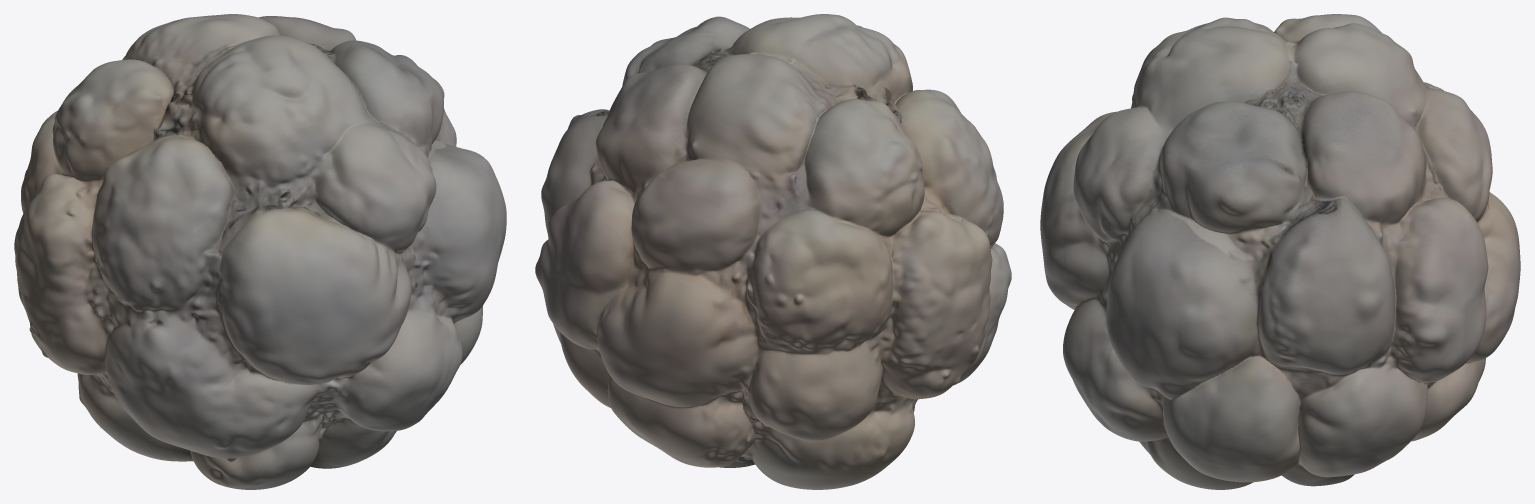
Rendered from detailed_realistic_model_solid_03.glb.
The picture shows the model from 3 angles, left to right: view 1: azimuth 30°, elevation 25°; view 2: azimuth 150°, elevation 25°; view 3: azimuth 270°, elevation 25°; orthographic projection.
Visible parts, largest first — view 1: tripo_node_9e362c5c-3238-4373-a049-937ee3fbfdf8; view 2: tripo_node_9e362c5c-3238-4373-a049-937ee3fbfdf8; view 3: tripo_node_9e362c5c-3238-4373-a049-937ee3fbfdf8.
Part boxes in pixels (left/top/right/bottom): tripo_node_9e362c5c-3238-4373-a049-937ee3fbfdf8: left=14, top=14, right=506, bottom=489; tripo_node_9e362c5c-3238-4373-a049-937ee3fbfdf8: left=535, top=14, right=1011, bottom=489; tripo_node_9e362c5c-3238-4373-a049-937ee3fbfdf8: left=1040, top=14, right=1520, bottom=489.
Size of the model in its own units: 1 by 0.9686 by 0.974.
1 material, 1 textured.
